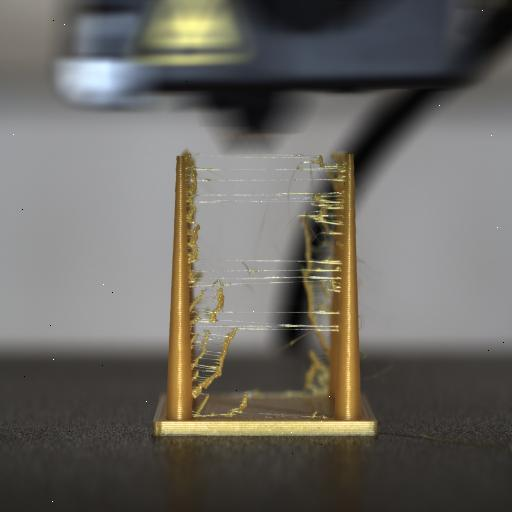stringing: (186, 158, 204, 278)
